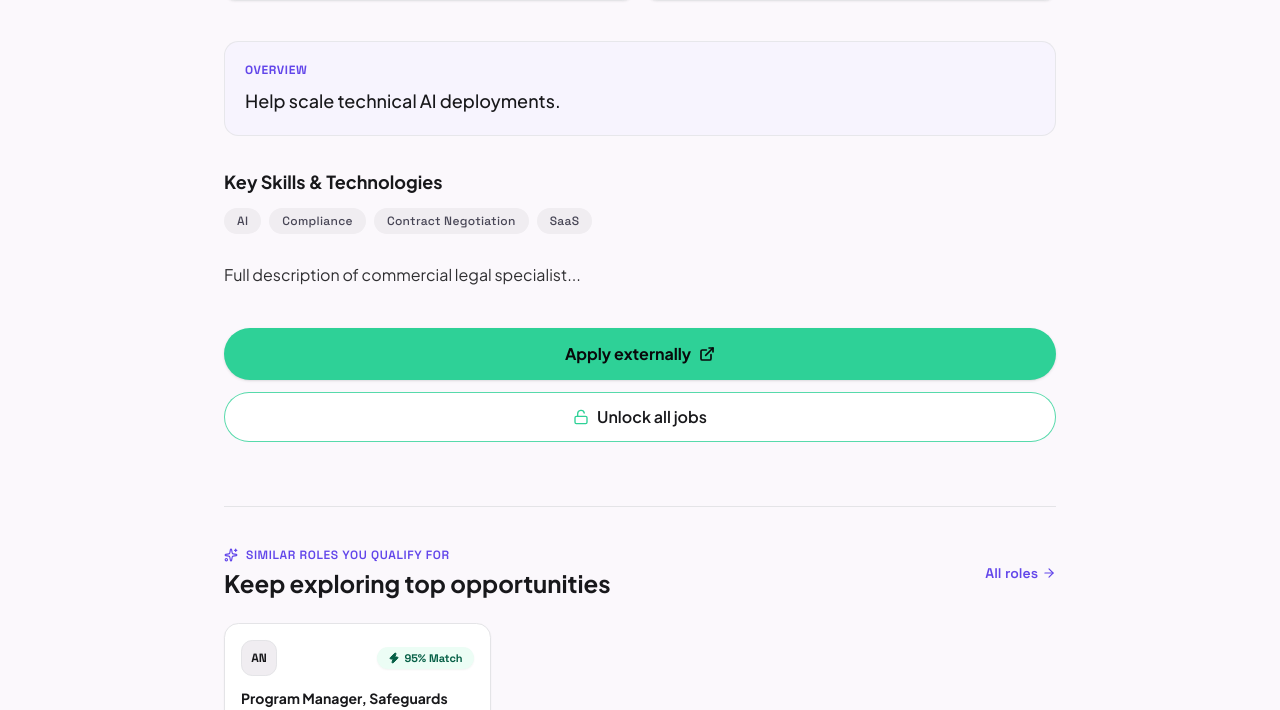
Scenario: Spec 0005: Post-Apply Shelf Seam › clicking Apply opens external URL and shows post-apply dialog with similar roles
This screenshot has width=1280, height=710.
(page scrolled)
// Click the primary Apply button
Click the link with test id "primary-apply-button": (640, 354) 224,328 -> 1056,380
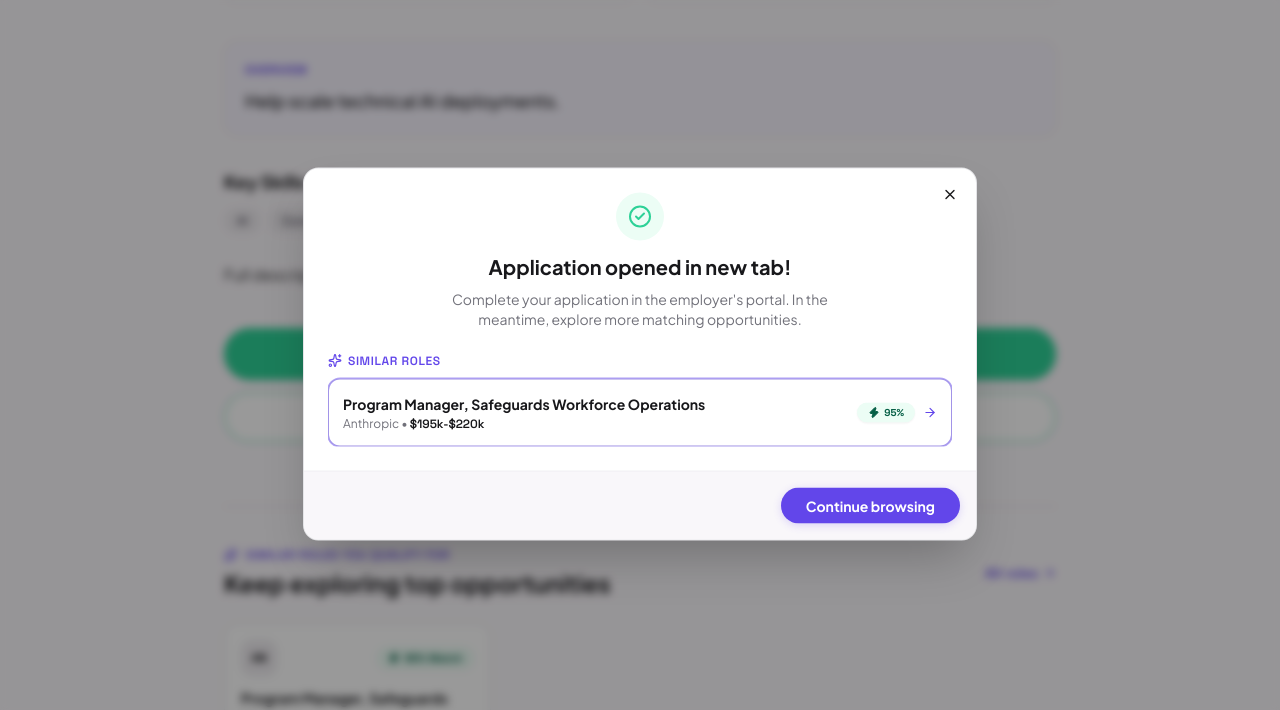
expect the dialog with test id "post-apply-dialog" is shown: met, box 304,168 -> 976,540
expect the heading "Application opened in new tab!" is shown: met, box 489,252 -> 791,280
